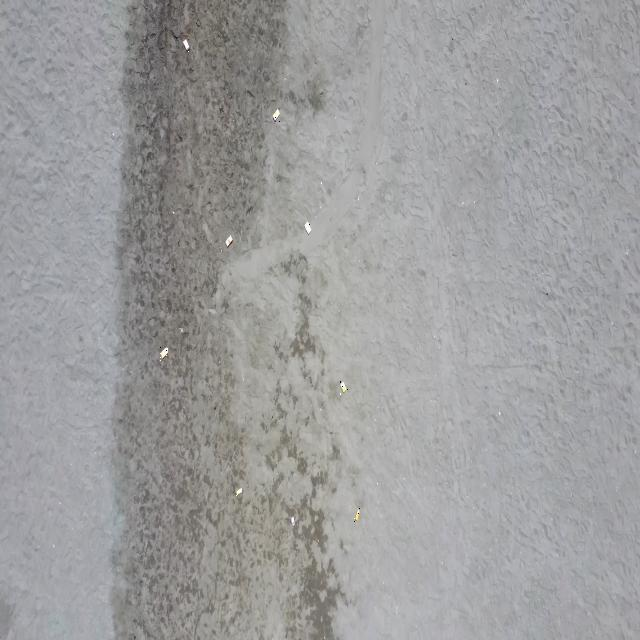Garbage: (352, 507, 360, 522), (224, 235, 232, 246), (303, 220, 310, 232), (181, 37, 188, 49), (340, 380, 347, 392), (160, 347, 167, 359), (272, 108, 279, 120), (235, 488, 241, 495), (289, 515, 293, 524), (179, 327, 183, 332), (172, 209, 175, 213)
